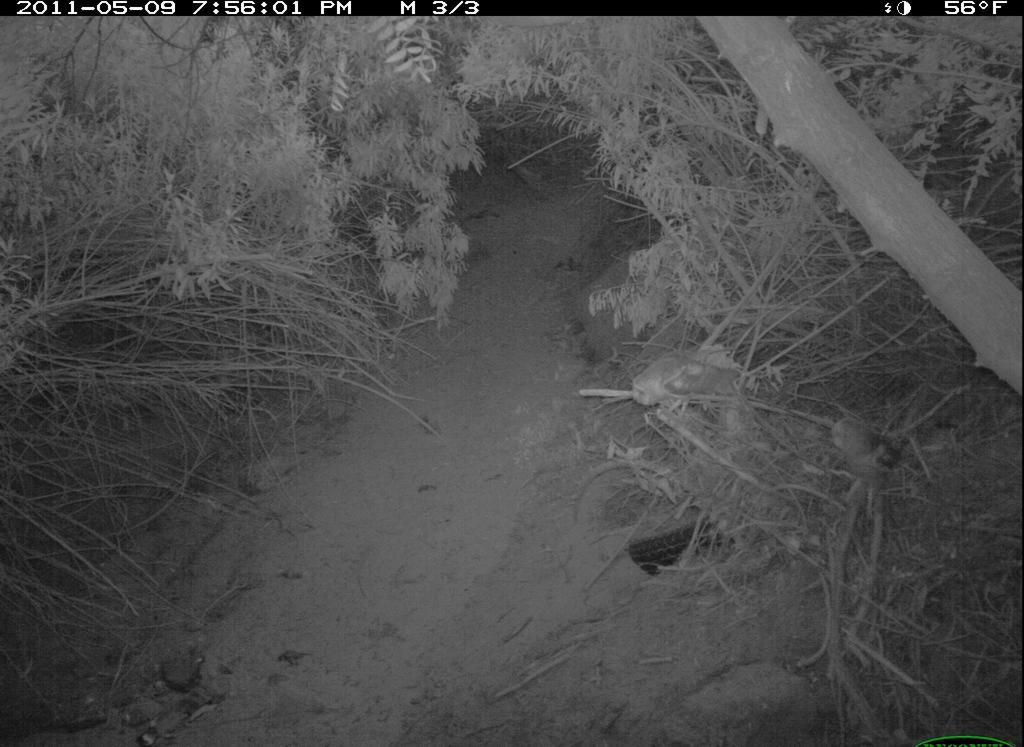bird: (629, 331, 765, 437)
